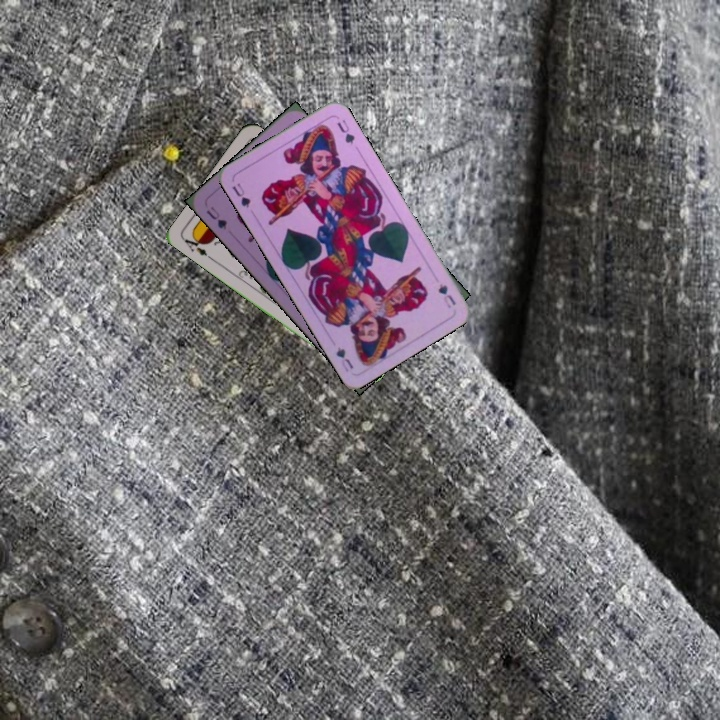EA: (180, 231, 215, 262)
GU: (202, 202, 230, 233), (228, 179, 253, 211), (434, 279, 458, 311)
